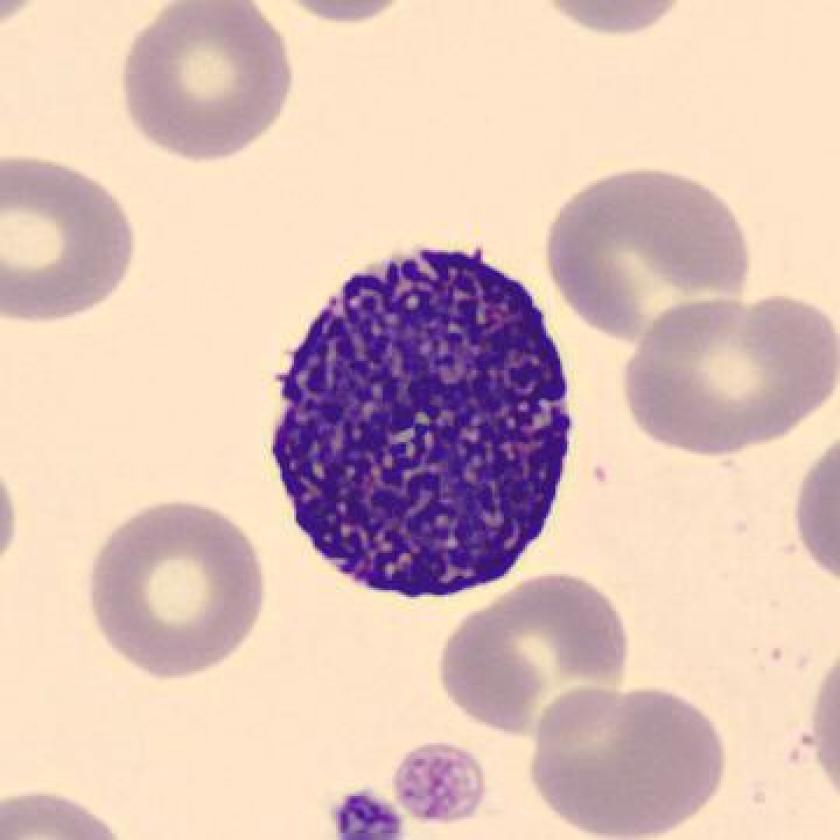basophil: (255, 230, 589, 607)
